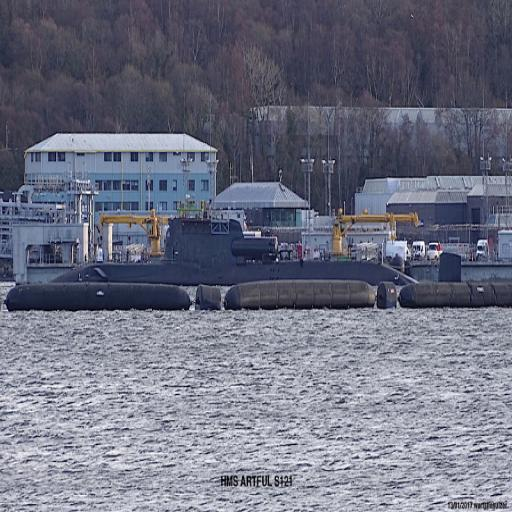submarine: (50, 218, 468, 284)
